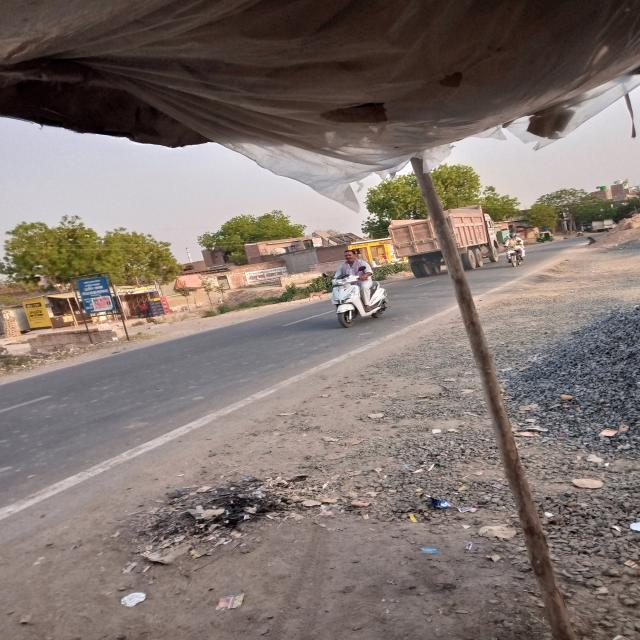Bike: (323, 276, 394, 335)
